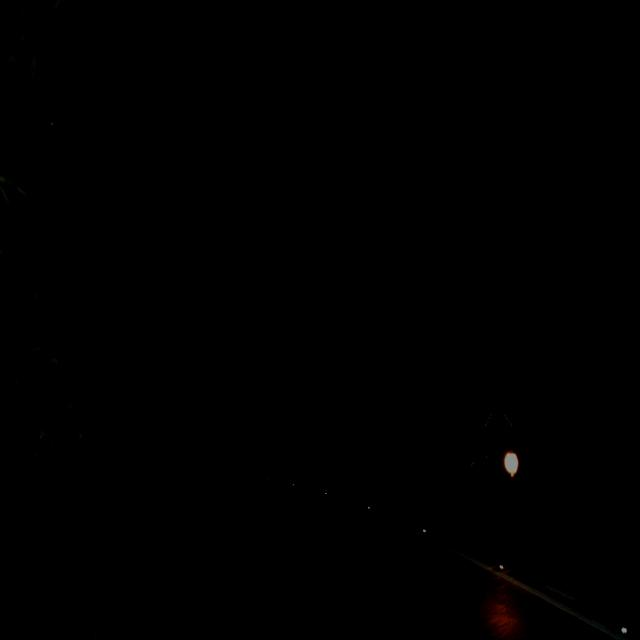Motorbike: (461, 390, 543, 536)
